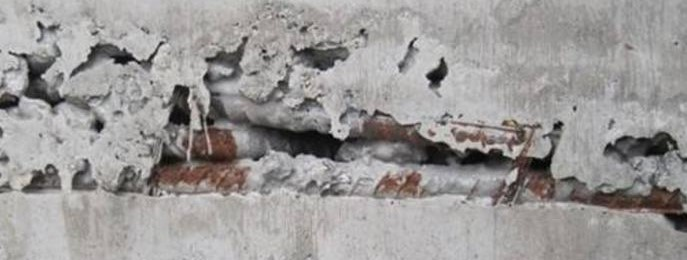Exposed reinforcement: (30, 158, 687, 214), (178, 89, 546, 156), (162, 122, 293, 159)
Spalling: (1, 1, 687, 236)
